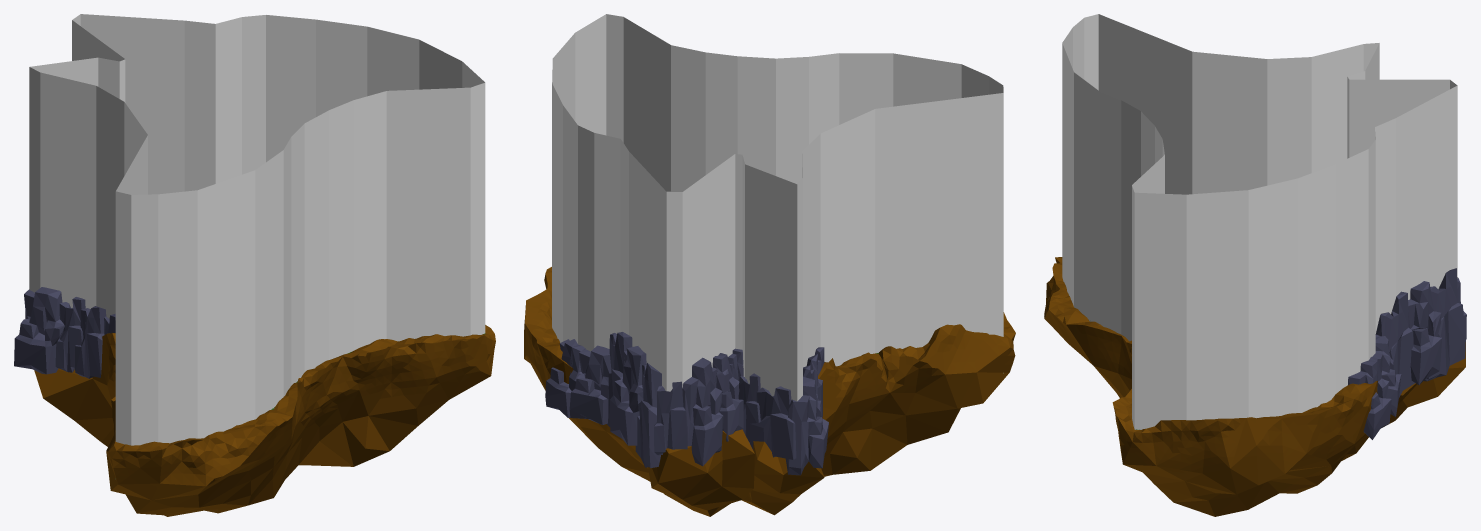
File: WIsland_210225.fbx
The picture shows the model from 3 angles, left to right: view 1: azimuth 30°, elevation 25°; view 2: azimuth 150°, elevation 25°; view 3: azimuth 270°, elevation 25°; orthographic projection. The views are drawn at different scales.
Visible parts, largest first — view 1: Basic shape, Basic clone.001, Rock; view 2: Basic shape, Basic clone.001, Rock; view 3: Basic shape, Basic clone.001, Rock.
Part boxes in pixels (<box>): Basic shape: <box>29,14,485,445</box>; Basic clone.001: <box>34,325,495,516</box>; Rock: <box>14,287,115,378</box>; Basic shape: <box>552,14,1003,401</box>; Basic clone.001: <box>524,267,1015,516</box>; Rock: <box>545,332,828,475</box>; Basic shape: <box>1062,14,1457,429</box>; Basic clone.001: <box>1044,257,1465,516</box>; Rock: <box>1348,268,1466,439</box>.
Size of the model in its own units: 7984 by 7374 by 7514.
